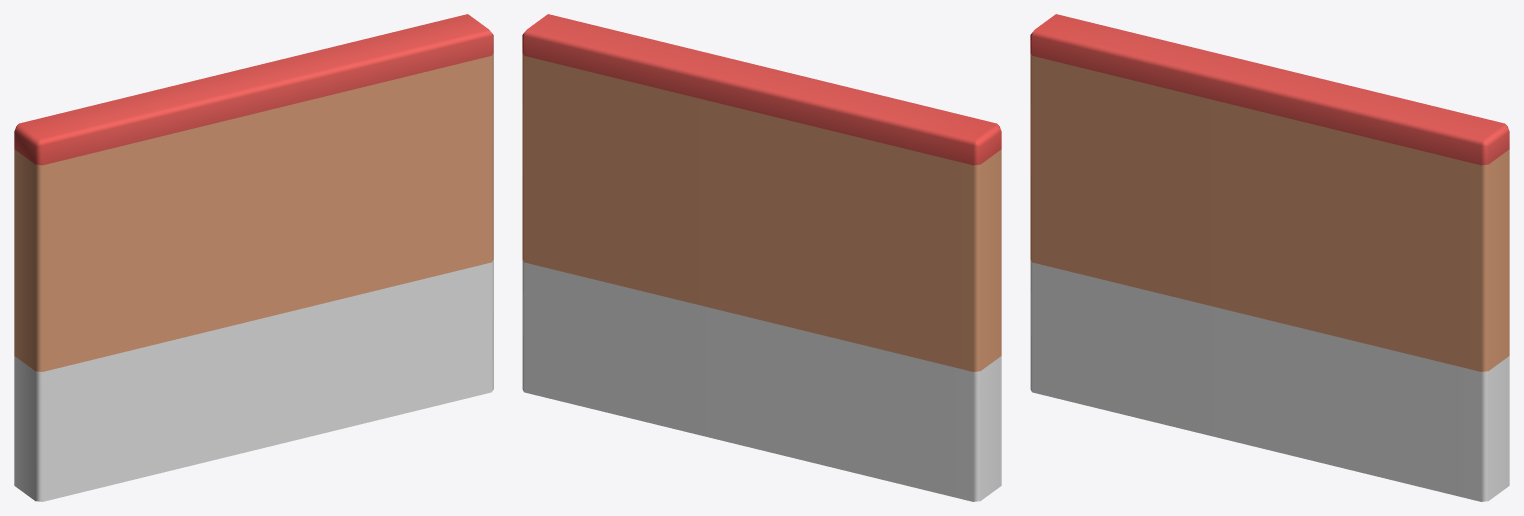
Rendered from Decor_wall_A.fbx.
3 views of the same model, side by side, from view 1: azimuth 30°, elevation 25°; view 2: azimuth 150°, elevation 25°; view 3: azimuth 330°, elevation 25° (orthographic).
Parts seen in each view (by area): view 1: Decor_wall_A; view 2: Decor_wall_A; view 3: Decor_wall_A.
Part boxes in pixels (x1,y1,x2,y2): Decor_wall_A: [14, 14, 493, 501]; Decor_wall_A: [522, 14, 1001, 501]; Decor_wall_A: [1030, 14, 1509, 501].
Bounding box in the file's own units: 527 × 397 × 52.55.
